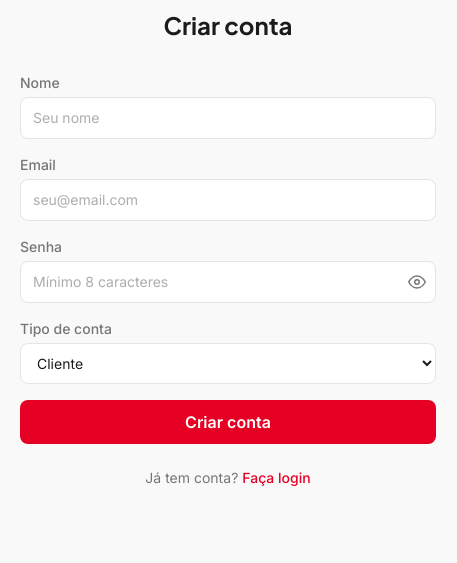
it: Cadastro › shows validation errors for empty fields
Click the button "Criar conta" at [228, 422], box [20, 400, 436, 444]
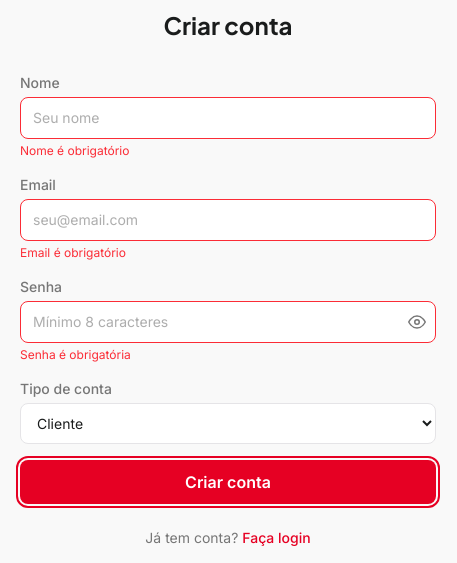
Expected: the text "Nome é obrigatório" is shown, [20, 143, 129, 158]
Expected: the text "Email é obrigatório" is shown, [20, 245, 126, 260]
Expected: the text "Senha é obrigatória" is shown, [20, 347, 131, 362]
